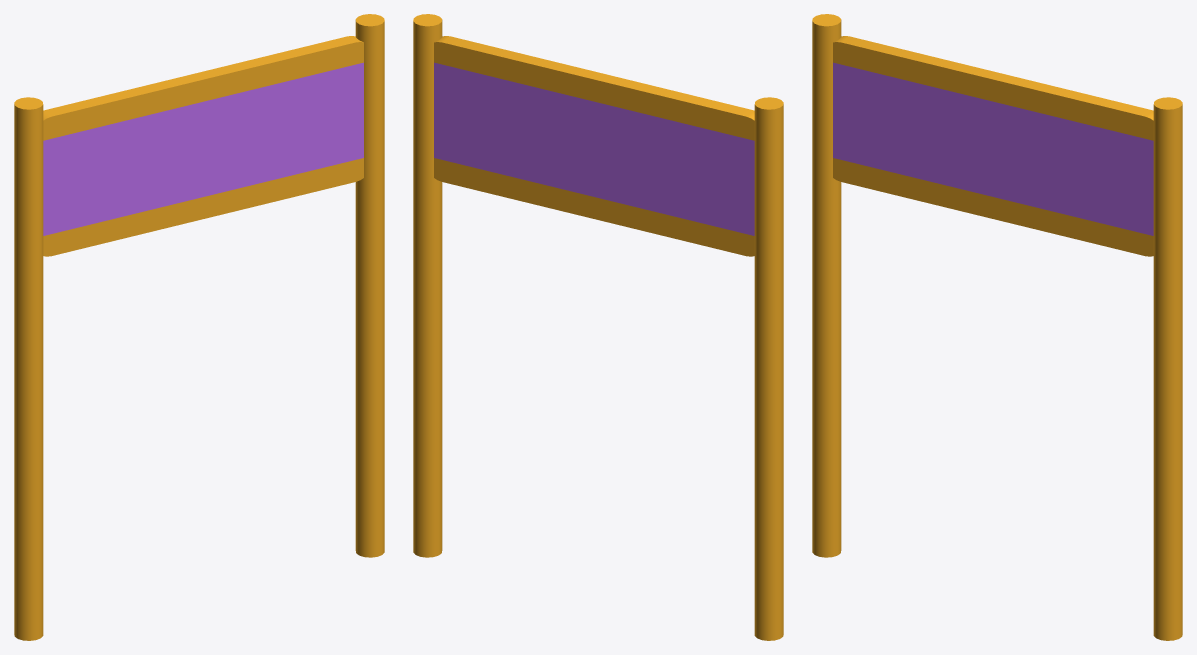
Rendered from Gate C.fbx.
3 views of the same model, side by side, from view 1: azimuth 30°, elevation 25°; view 2: azimuth 150°, elevation 25°; view 3: azimuth 330°, elevation 25° (orthographic).
Parts seen in each view (by area): view 1: Gate C, Gate C.002, Gate C.001; view 2: Gate C, Gate C.002, Gate C.001; view 3: Gate C, Gate C.001, Gate C.002.
Boxes of the visible parts, x1,y1,x2,y2 form: Gate C: (43,36,363,256); Gate C.002: (14,97,43,640); Gate C.001: (355,14,384,557); Gate C: (434,36,754,256); Gate C.002: (754,97,783,640); Gate C.001: (413,14,442,557); Gate C: (833,36,1153,256); Gate C.001: (1153,97,1182,640); Gate C.002: (812,14,841,557).
Bounding box in the file's own units: 308 × 427 × 21.39.
